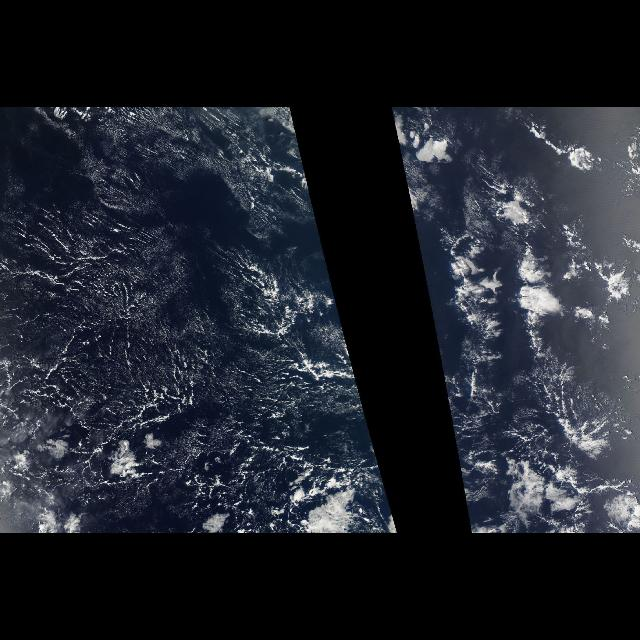Flower: (428, 118, 634, 350)
Sugar: (9, 162, 300, 460)
